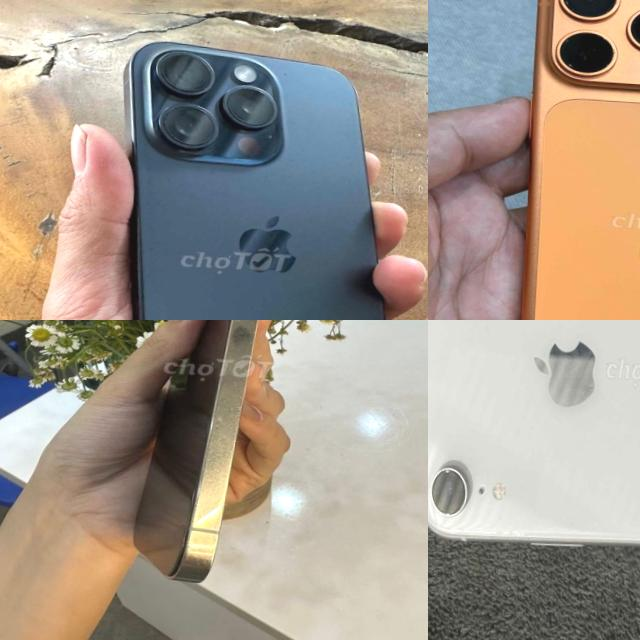scratch: (190, 320, 270, 505)
